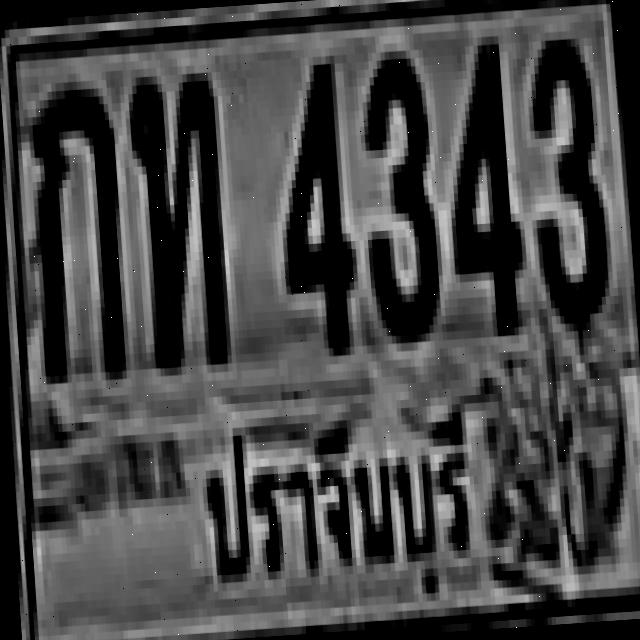10GorGai: (17, 79, 126, 376)
3: (518, 29, 606, 325), (350, 41, 438, 337)
32ThorThaHan: (122, 64, 228, 369)
4: (266, 51, 354, 347), (436, 27, 520, 330)
PrachinBuri: (182, 388, 488, 622)
